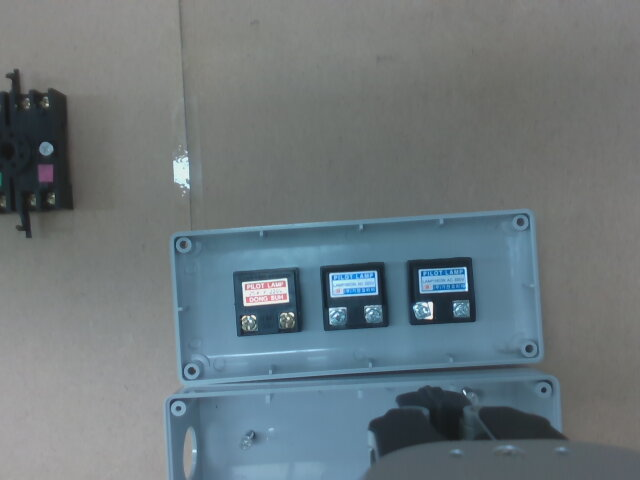L1(1): (240, 315, 257, 331)
L1(2): (277, 313, 294, 330)
L2(1): (328, 308, 347, 326)
L2(2): (364, 305, 383, 324)
L3(1): (414, 302, 434, 320)
L3(2): (452, 300, 471, 318)
